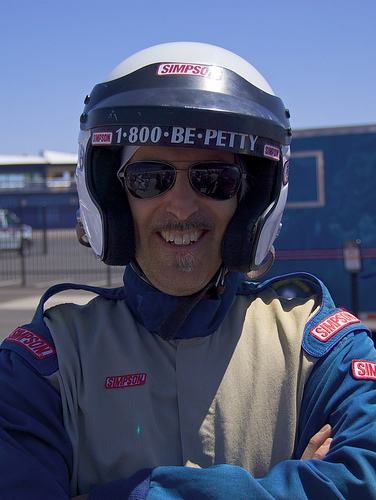helmet: (63, 43, 290, 267)
